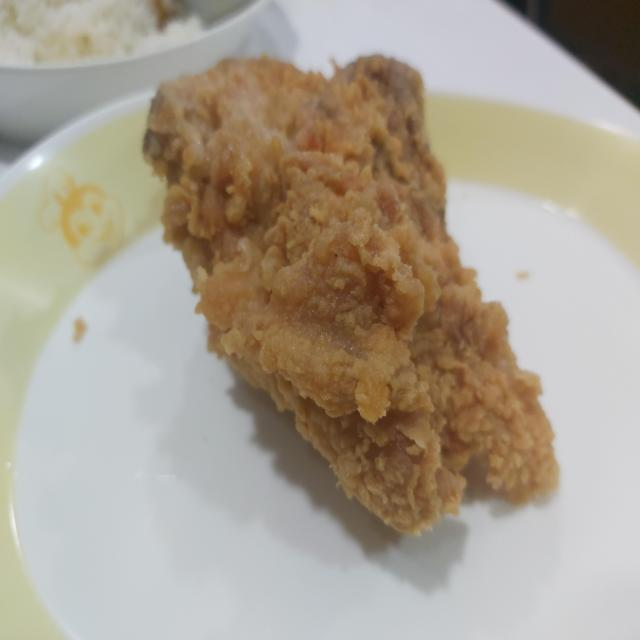Chicken -Fried Chicken-: (127, 44, 588, 558)
